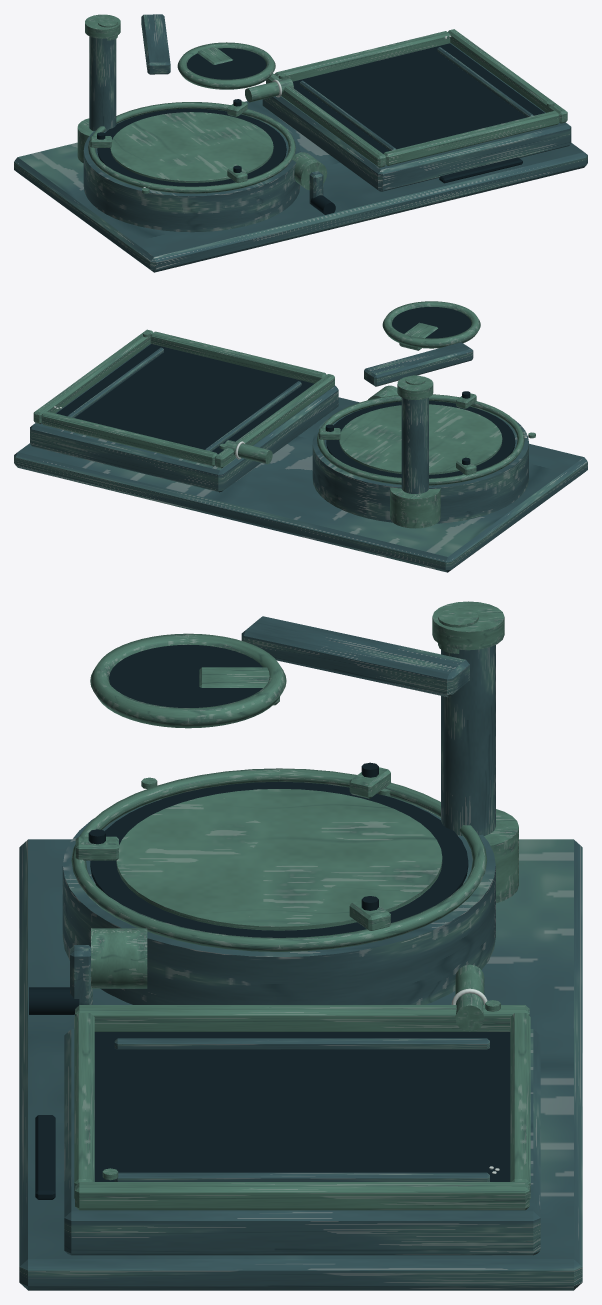
The model's file is SM_C1_Signature_Reader.glb.
The picture shows the model from 3 angles, top to bottom: view 1: azimuth 30°, elevation 25°; view 2: azimuth 150°, elevation 25°; view 3: azimuth 270°, elevation 25°; orthographic projection. The views are drawn at different scales.
Parts seen in each view (by area): view 1: SM_C1_Signature_Reader_Casting, SM_C1_Signature_Reader_Patina, SM_C1_Signature_Reader_Recess; view 2: SM_C1_Signature_Reader_Casting, SM_C1_Signature_Reader_Patina, SM_C1_Signature_Reader_Recess; view 3: SM_C1_Signature_Reader_Casting, SM_C1_Signature_Reader_Patina, SM_C1_Signature_Reader_Recess.
Boxes of the visible parts, x1,y1,x2,y2 form: SM_C1_Signature_Reader_Casting: (14, 14, 587, 272); SM_C1_Signature_Reader_Patina: (77, 14, 567, 193); SM_C1_Signature_Reader_Recess: (97, 43, 544, 214); SM_C1_Signature_Reader_Casting: (14, 342, 587, 572); SM_C1_Signature_Reader_Patina: (33, 301, 535, 528); SM_C1_Signature_Reader_Recess: (56, 307, 515, 478); SM_C1_Signature_Reader_Casting: (19, 616, 582, 1290); SM_C1_Signature_Reader_Patina: (71, 601, 530, 1210); SM_C1_Signature_Reader_Recess: (29, 644, 510, 1199).
Bounding box in the file's own units: 0.7 × 0.24 × 0.39.
4 materials, 2 textured.
